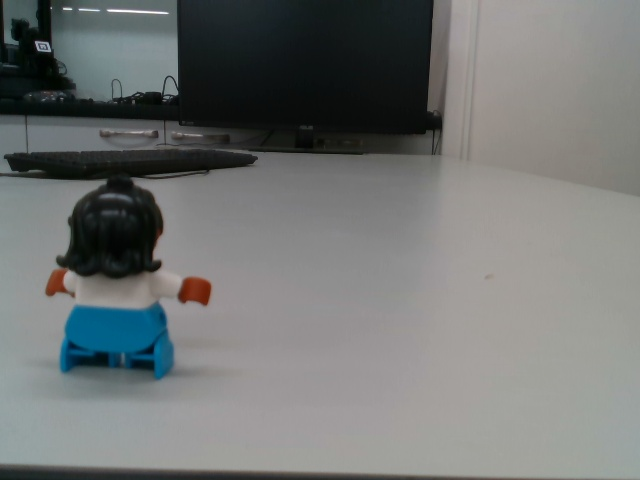people: (45, 179, 214, 379)
